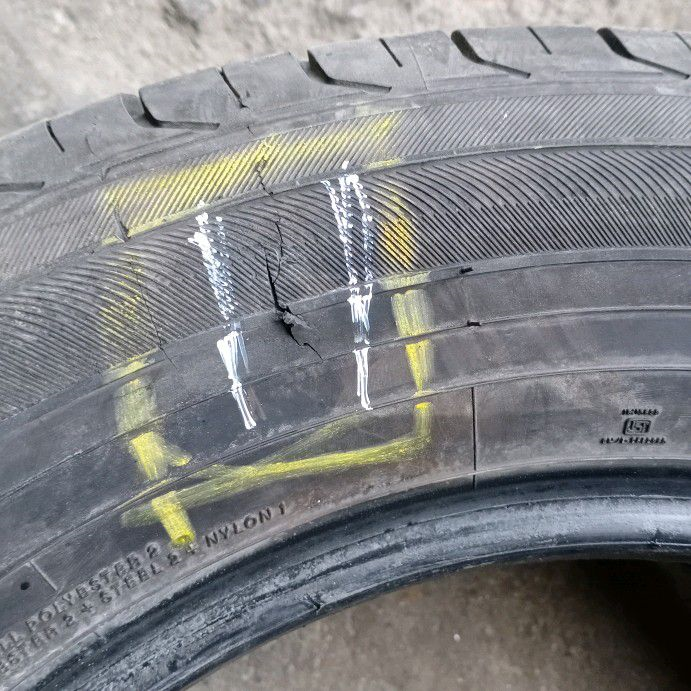cut: (254, 153, 326, 366)
